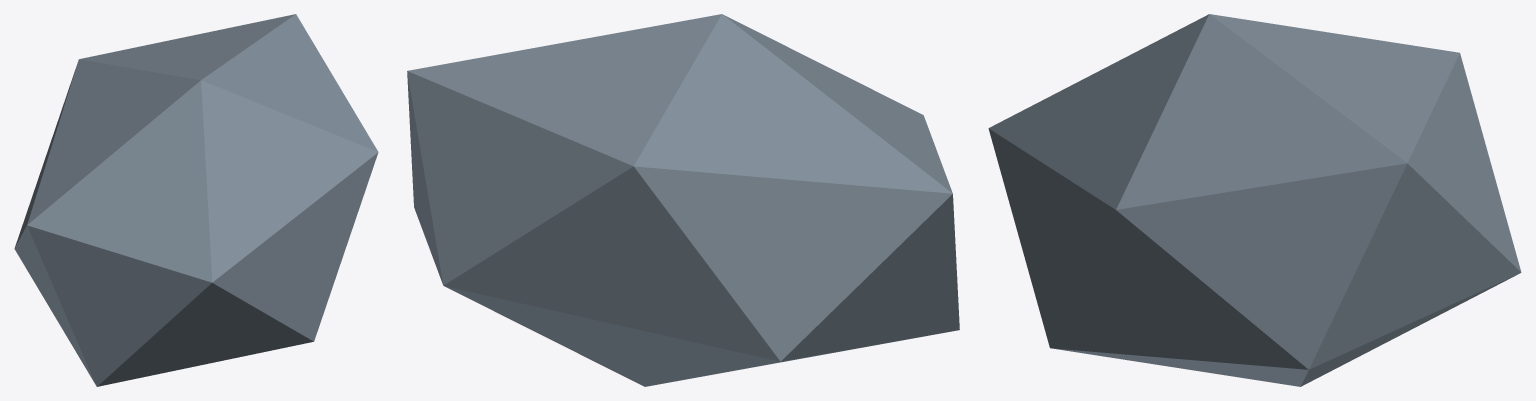
File: INT_B_WallRubble_00_Stone_1.glb
The picture shows the model from 3 angles, left to right: view 1: azimuth 30°, elevation 25°; view 2: azimuth 150°, elevation 25°; view 3: azimuth 270°, elevation 25°; orthographic projection. The views are drawn at different scales.
Parts seen in each view (by area): view 1: INT_B_WallRubble_00_Stone_1; view 2: INT_B_WallRubble_00_Stone_1; view 3: INT_B_WallRubble_00_Stone_1.
Boxes of the visible parts, bbox=[...] form: INT_B_WallRubble_00_Stone_1: bbox=[14, 14, 378, 386]; INT_B_WallRubble_00_Stone_1: bbox=[407, 14, 959, 386]; INT_B_WallRubble_00_Stone_1: bbox=[988, 14, 1521, 386].
Bounding box in the file's own units: 0.4986 × 0.3414 × 0.4624.
